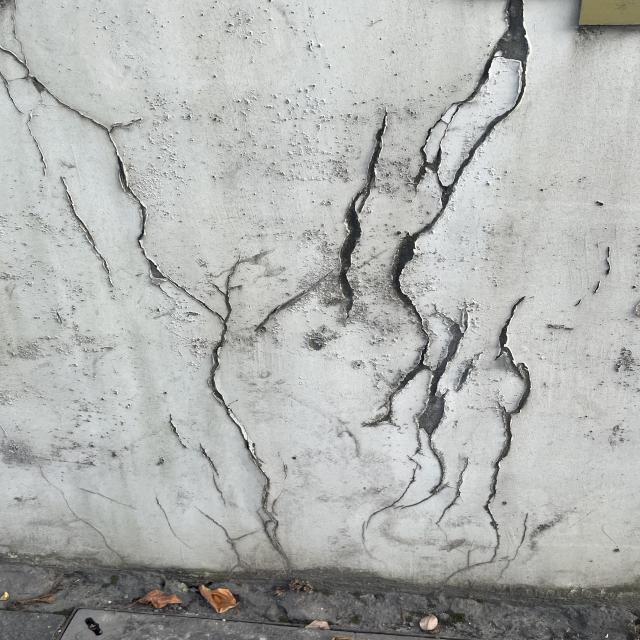crack: (0, 43, 299, 571), (35, 460, 152, 561), (164, 414, 229, 508)
spalling: (338, 2, 538, 581)
